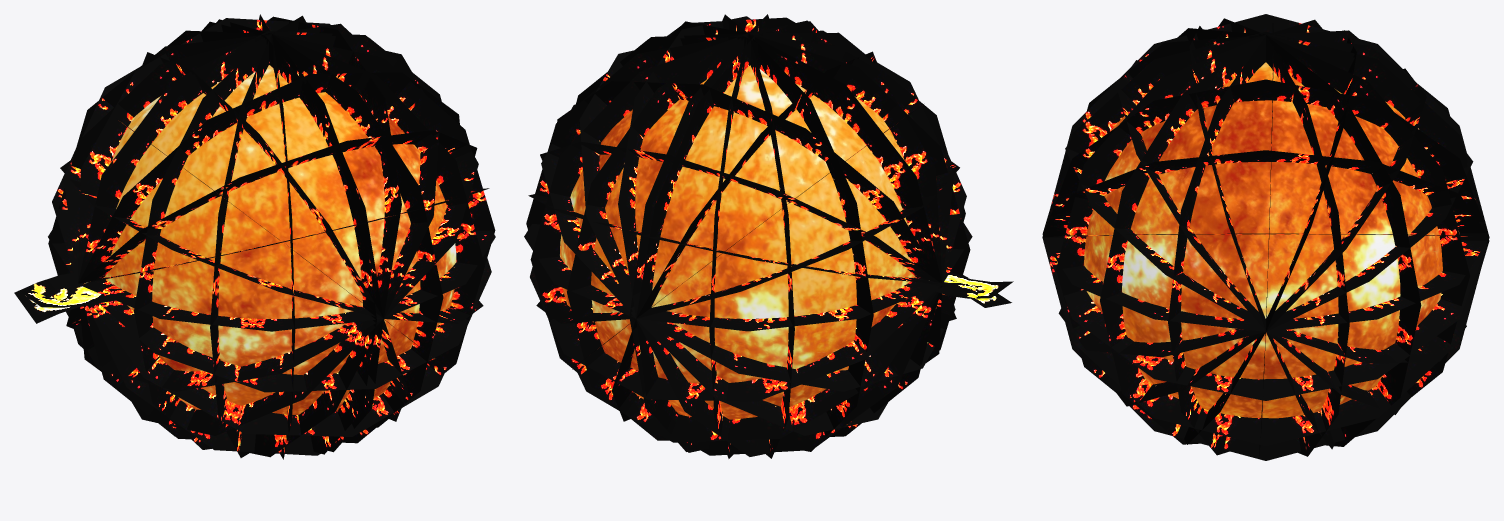
Rendered from Sun.glb.
3 views of the same model, side by side, from view 1: azimuth 30°, elevation 25°; view 2: azimuth 150°, elevation 25°; view 3: azimuth 270°, elevation 25° (orthographic).
Visible parts, largest first — view 1: Sun; view 2: Sun; view 3: Sun.
Part boxes in pixels (left/top/right/bottom): Sun: left=14, top=14, right=495, bottom=459; Sun: left=524, top=14, right=1013, bottom=458; Sun: left=1042, top=14, right=1489, bottom=460.
Bounding box in the file's own units: 2.27 × 2.31 × 1.98.
Materials: 2 (2 with a texture image).
